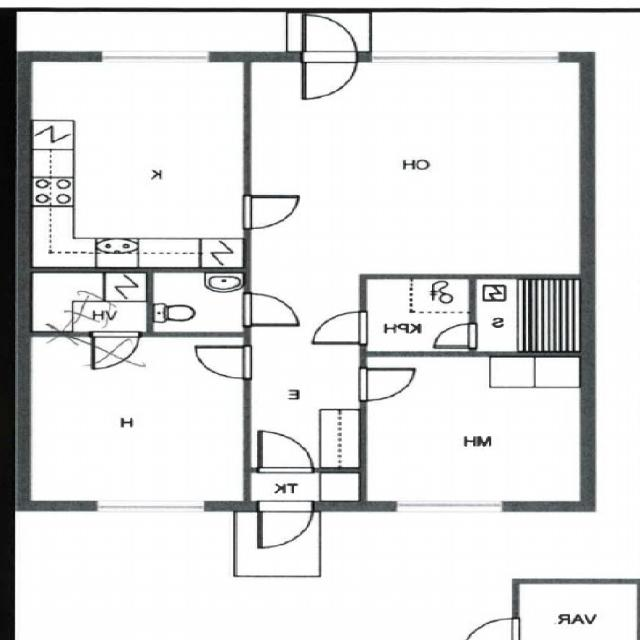door: (303, 51, 357, 99), (258, 502, 314, 548), (303, 15, 357, 62), (260, 432, 314, 472), (244, 195, 301, 229), (360, 368, 416, 401), (312, 311, 367, 344), (197, 346, 251, 379), (244, 294, 297, 324), (467, 619, 519, 640), (434, 323, 477, 348)
